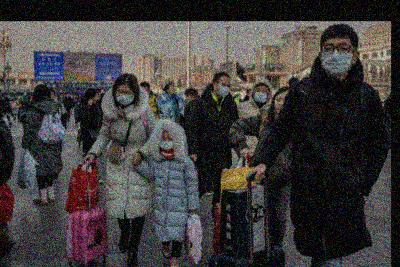with_mask: (321, 41, 353, 77), (114, 88, 134, 104), (252, 86, 268, 103), (216, 81, 231, 97), (158, 135, 174, 149)
without_mask: (273, 96, 286, 113), (92, 94, 99, 103), (169, 85, 176, 93)
